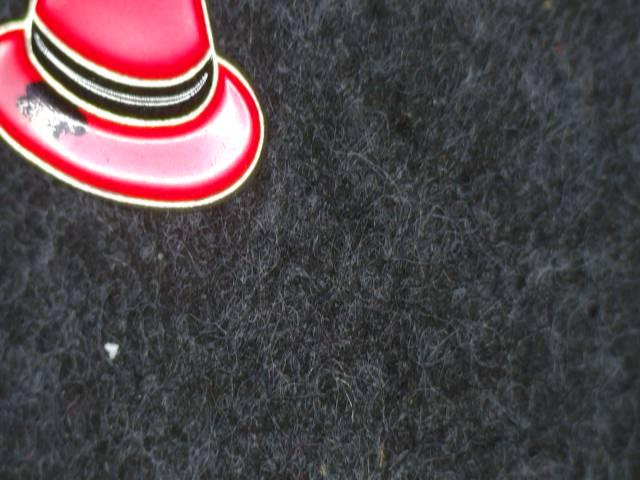Red-Hat: (0, 0, 279, 252)
Scratch: (3, 65, 94, 153)
